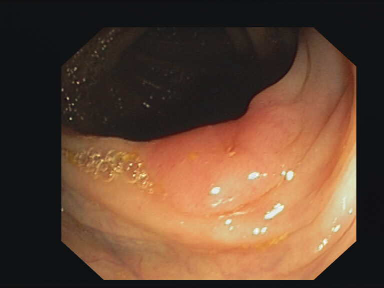polyp: (175, 121, 274, 177)
